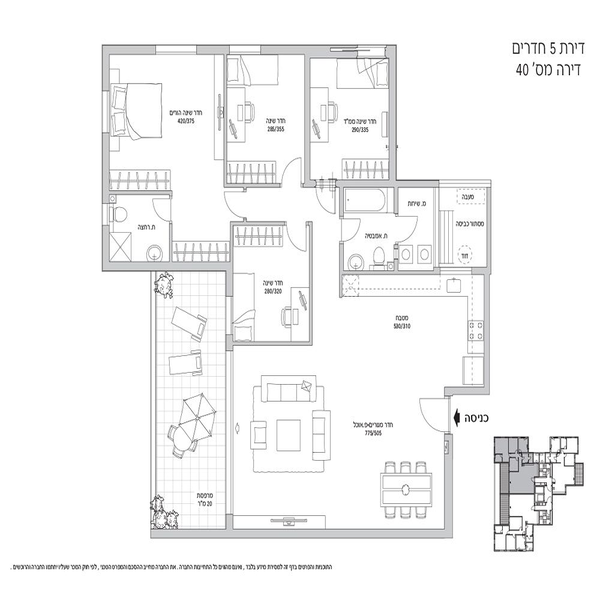door: (417, 395, 460, 434), (220, 186, 252, 227), (283, 220, 309, 255), (308, 185, 336, 215), (279, 154, 305, 186), (339, 214, 364, 245), (395, 213, 418, 246), (152, 195, 178, 222)
room: (96, 44, 237, 272), (219, 39, 310, 192), (306, 44, 397, 189)
wall: (145, 528, 455, 539), (301, 61, 315, 188), (220, 53, 232, 188), (102, 260, 230, 272), (387, 48, 398, 181), (334, 177, 438, 190), (482, 267, 491, 394), (307, 222, 316, 345), (258, 43, 332, 57), (446, 435, 455, 533), (109, 189, 175, 200), (221, 343, 319, 350), (346, 269, 442, 275), (103, 135, 111, 202), (337, 247, 346, 294), (103, 220, 112, 263), (196, 44, 222, 58), (102, 44, 110, 89), (107, 44, 157, 50), (227, 274, 235, 297), (221, 184, 279, 185)
wi: (349, 44, 388, 63), (99, 93, 115, 130), (160, 44, 195, 58), (231, 42, 262, 57), (227, 298, 237, 334)
